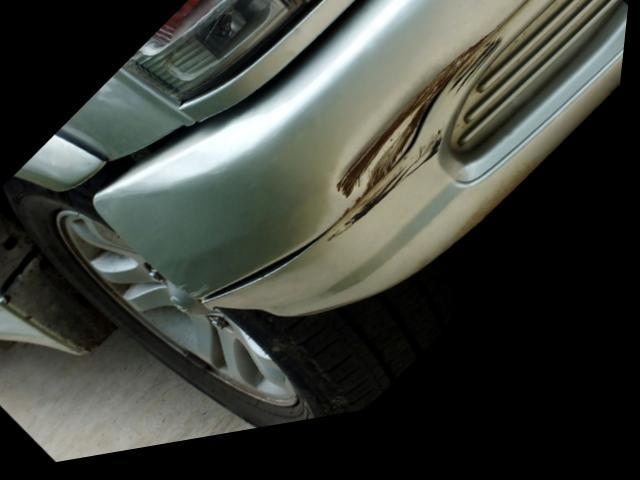dent: (329, 67, 469, 229)
scratch: (332, 144, 446, 261), (452, 53, 507, 118)
